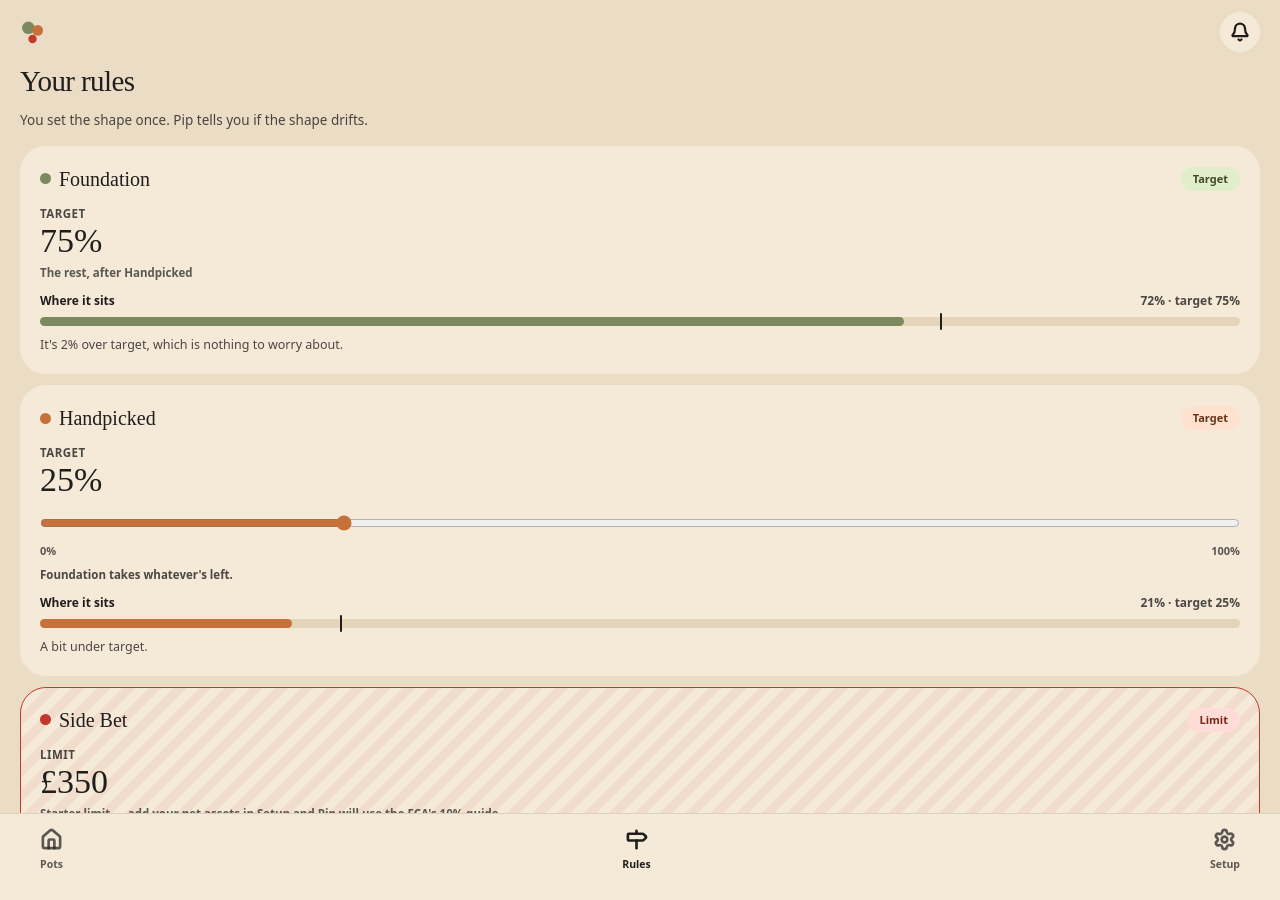
Test: changing your rules › says a failed save changed nothing
Set the slider named "Handpicked's target" to "31" at [415, 523], box [40,509,1240,537]
(page scrolled)
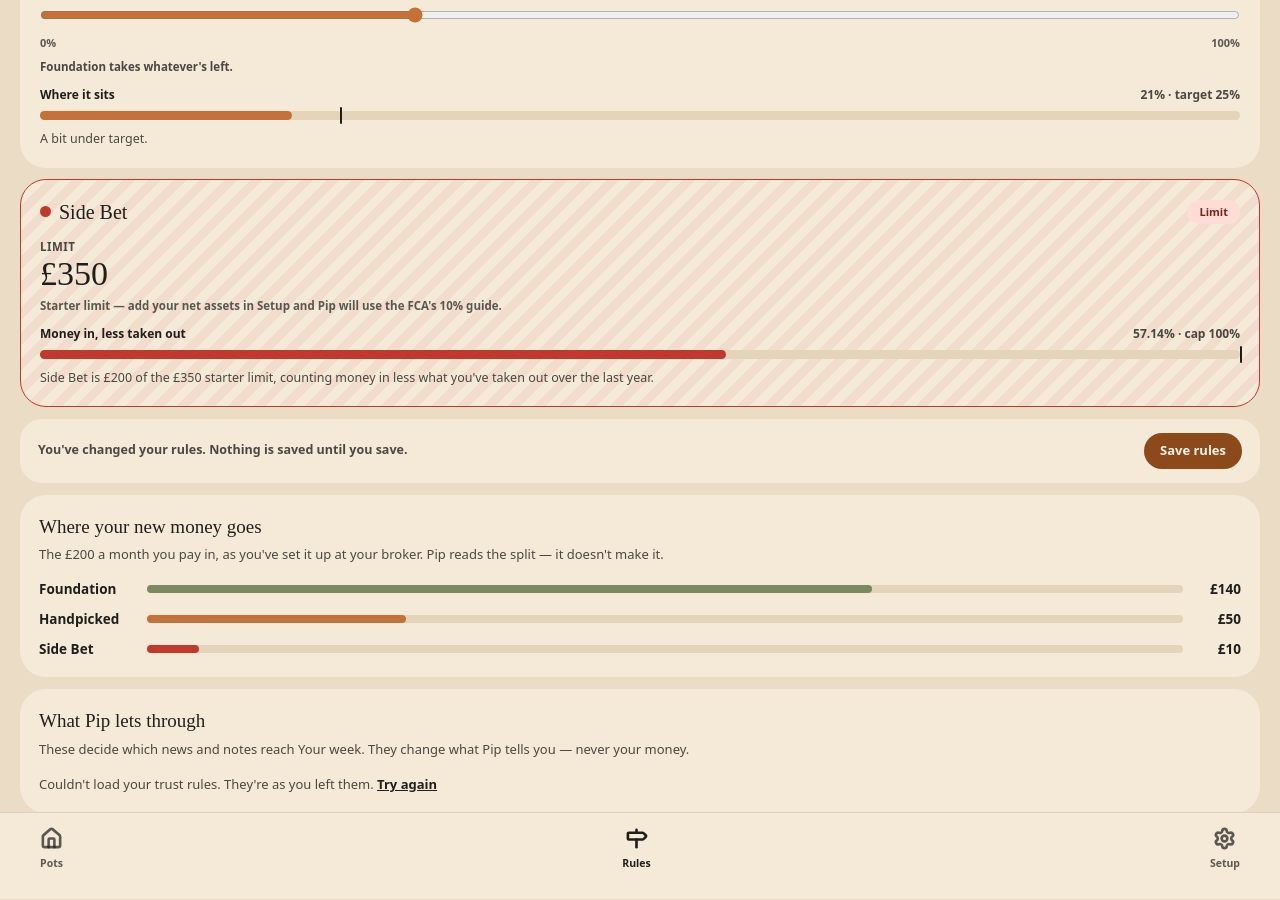
Click the button "Save rules".
click(1193, 451)  # box [1144,433,1242,468]
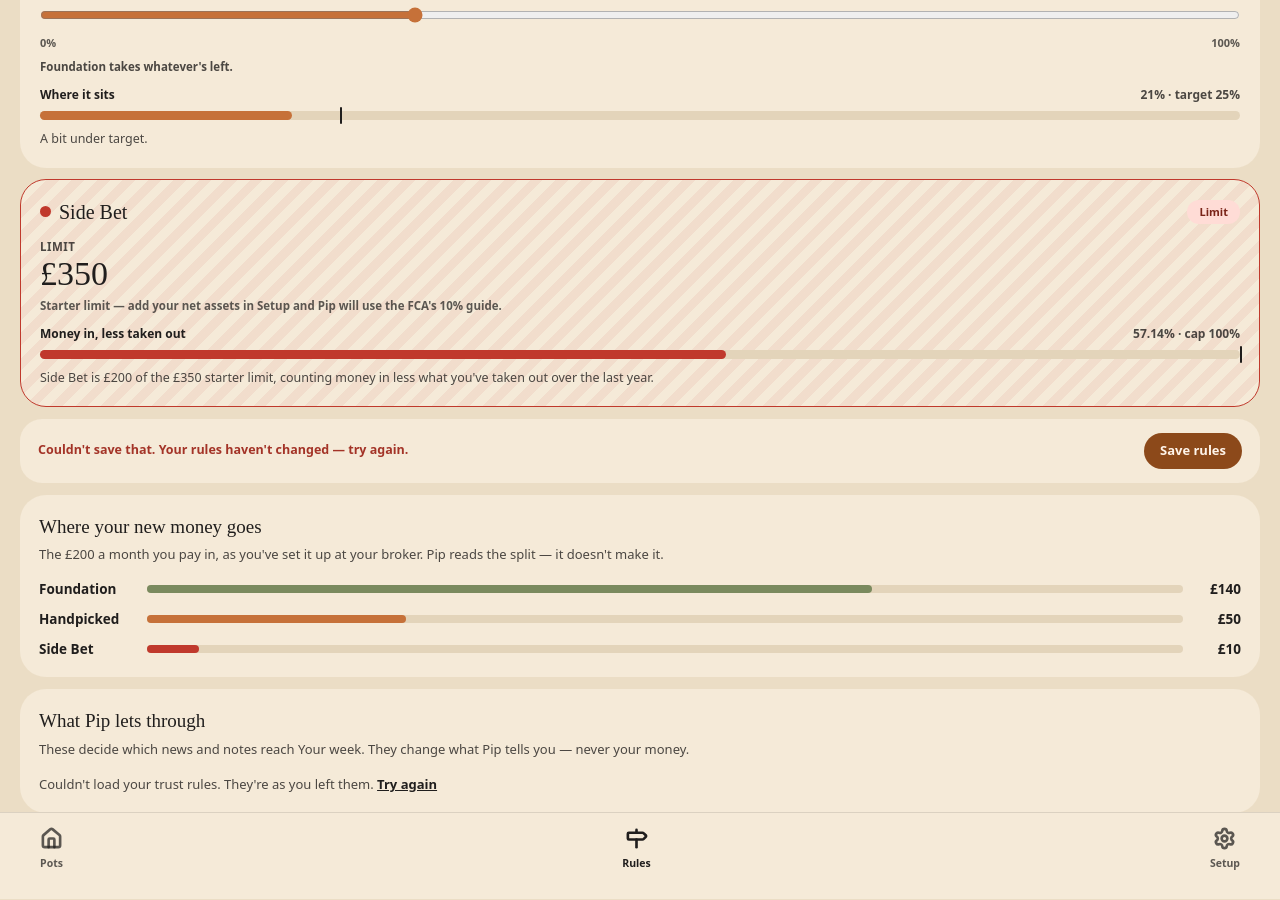
Now the button "Save rules" is enabled, box [1144,433,1242,468]
Now the text "Couldn't save that. Your rules haven't changed — try again." is shown, box [38,441,408,458]
